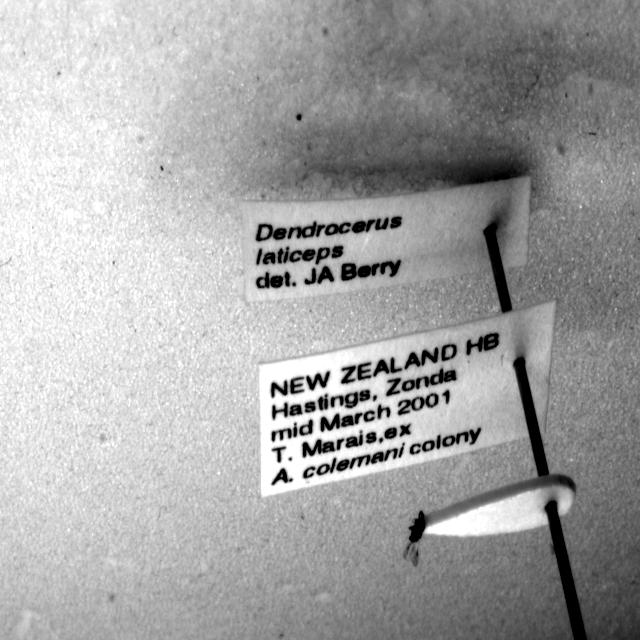typed_label: (260, 302, 556, 497), (242, 176, 530, 302)
